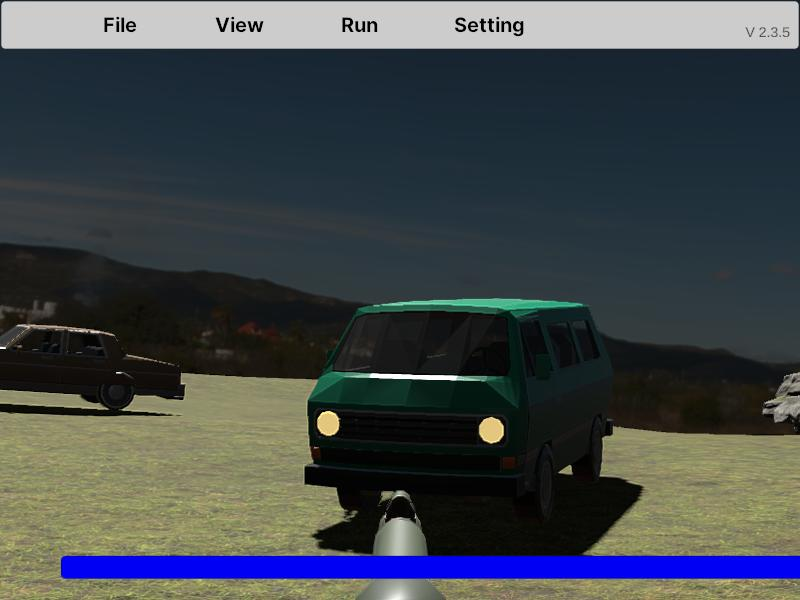car: (304, 300, 614, 527), (0, 322, 187, 413)
